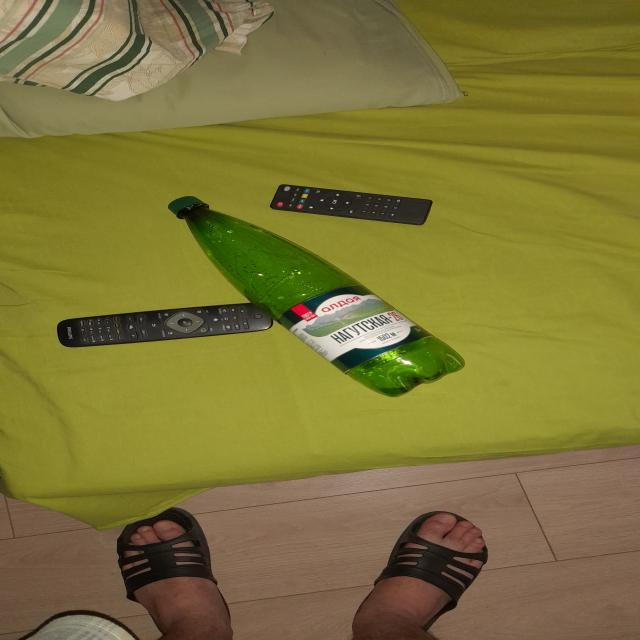empty: (169, 196, 464, 397)
